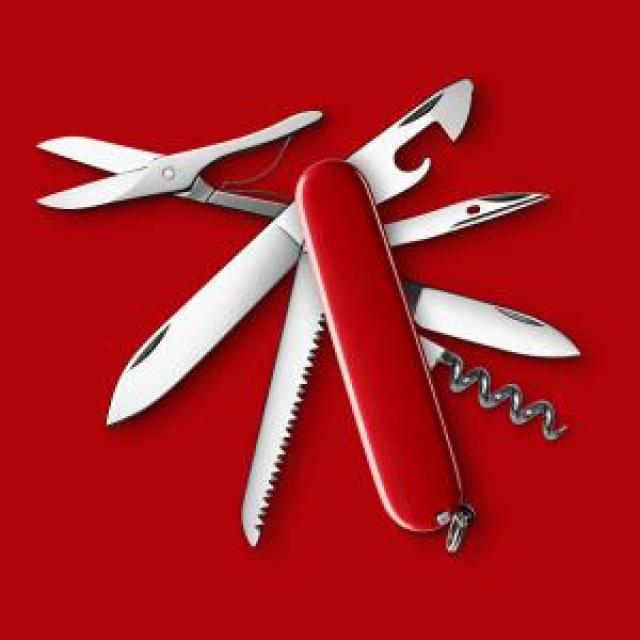knife: (88, 198, 308, 447), (226, 260, 331, 560), (382, 256, 585, 382), (360, 175, 557, 257)
